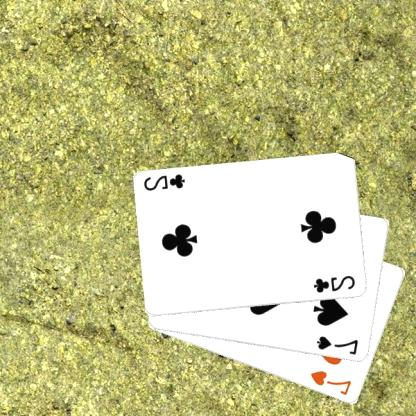2C: (313, 273, 359, 295), (143, 172, 189, 192)
7H: (309, 368, 355, 397)
7S: (316, 334, 361, 357)
